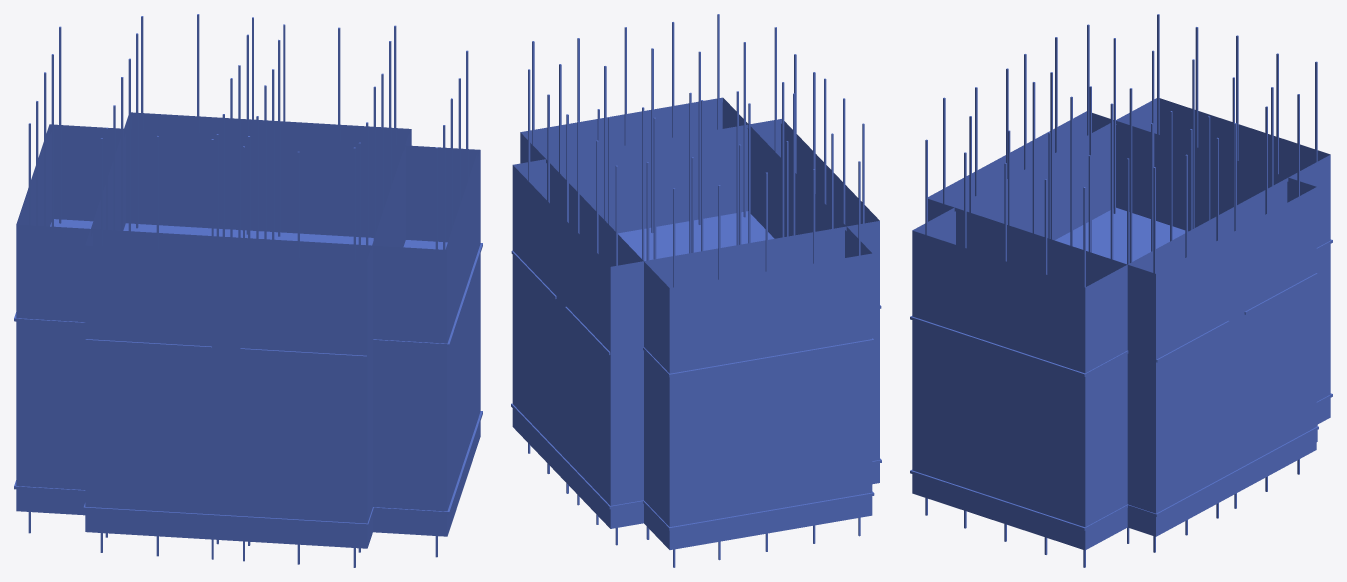
Rendered from syra.fbx.
3 views of the same model, side by side, from view 1: azimuth 30°, elevation 25°; view 2: azimuth 150°, elevation 25°; view 3: azimuth 270°, elevation 25° (orthographic). The views are drawn at different scales.
Parts seen in each view (by area): view 1: syrplan, 建筑工地1钢筋; view 2: syrplan, 建筑工地1钢筋; view 3: syrplan, 建筑工地1钢筋.
Part boxes in pixels (x1,y1,x2,y2): syrplan: (14,112,482,548); 建筑工地1钢筋: (28,14,468,567); syrplan: (511,97,881,549); 建筑工地1钢筋: (528,14,864,567); syrplan: (910,98,1332,550); 建筑工地1钢筋: (925,14,1317,567).
Bounding box in the file's own units: 564 × 527 × 525.
